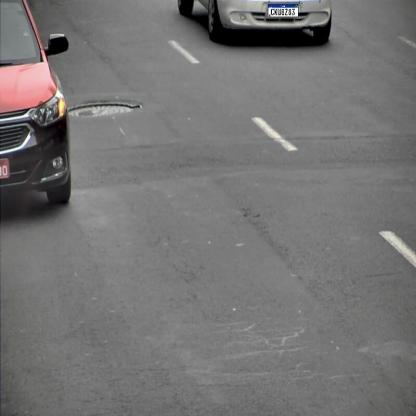PlacaM: (268, 4, 298, 17)
